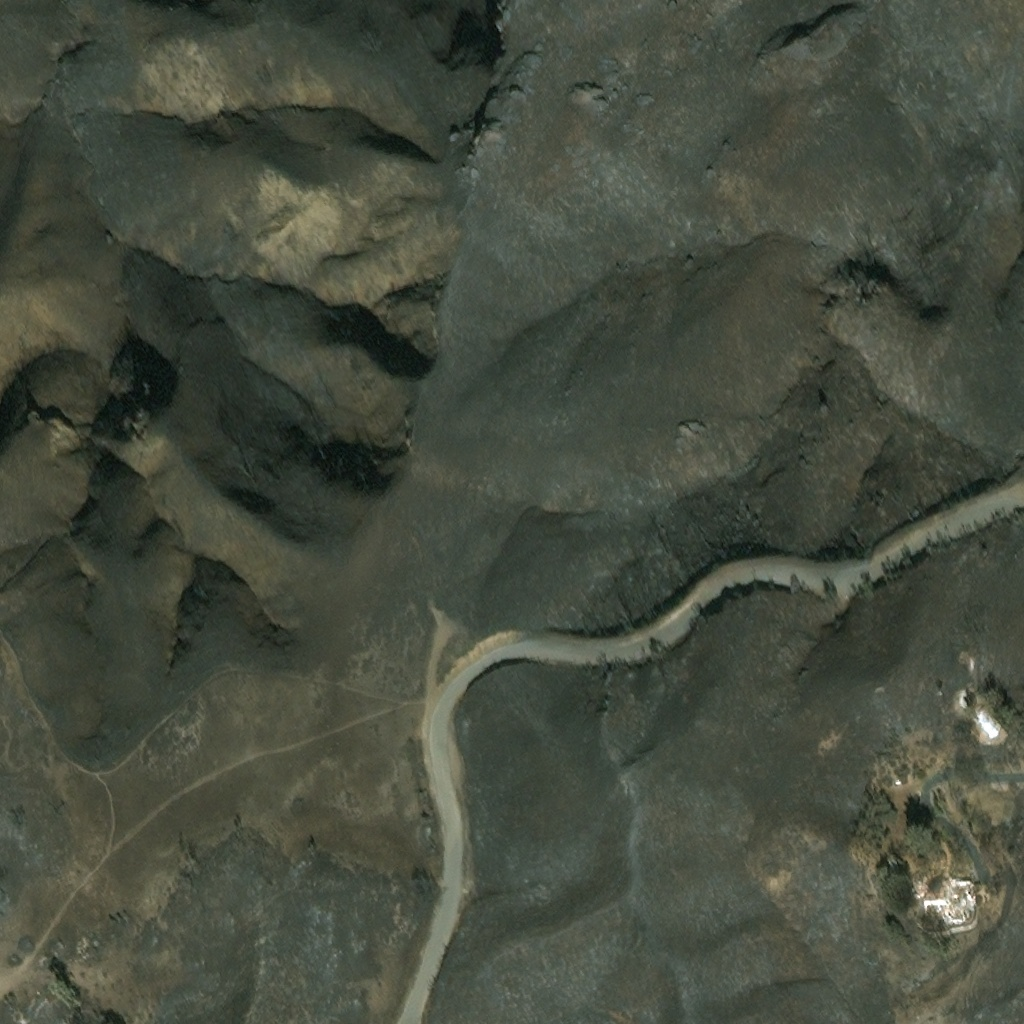3 destroyed: (903, 875, 973, 937), (975, 708, 1007, 741), (960, 677, 975, 691)
